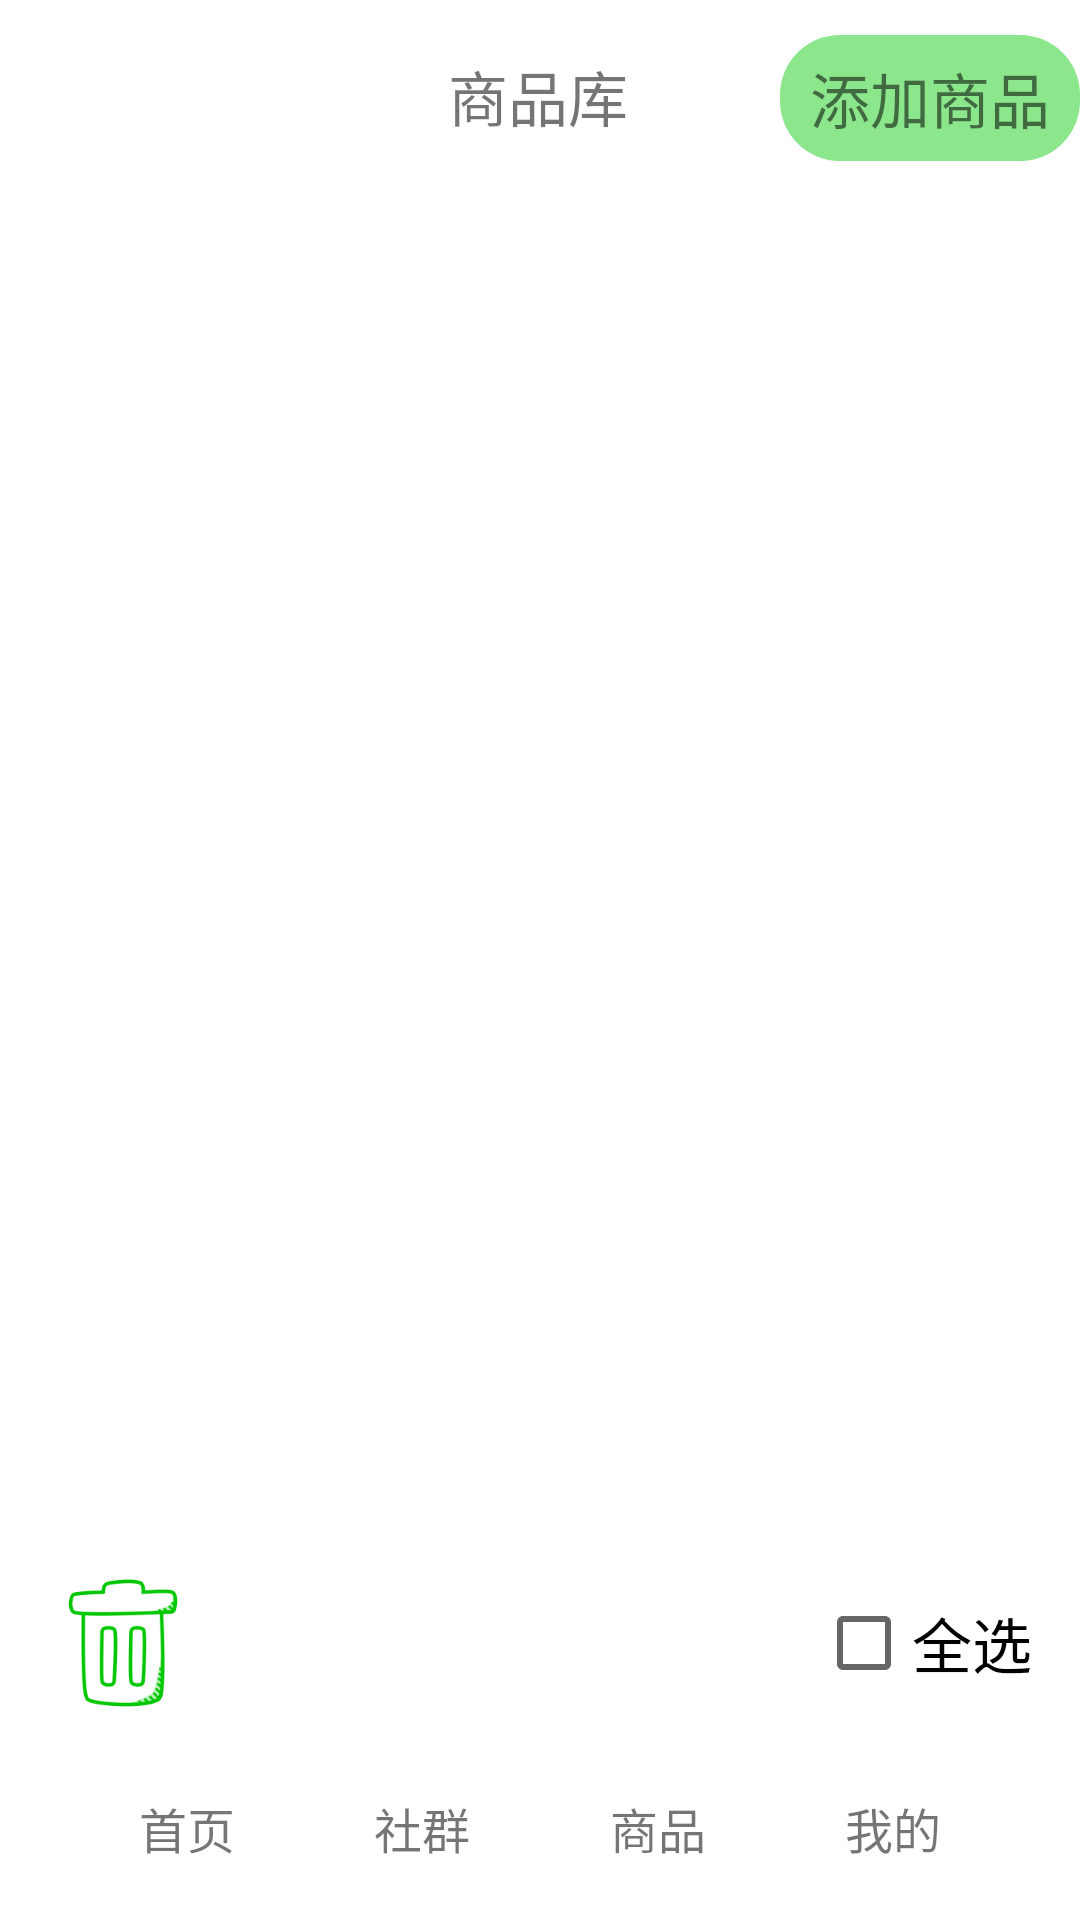

Named icons in this screenshot (1080*1920) and their bounding boxes, (x1, y1, x2, y2):
redelete: (68, 1579, 178, 1707)
